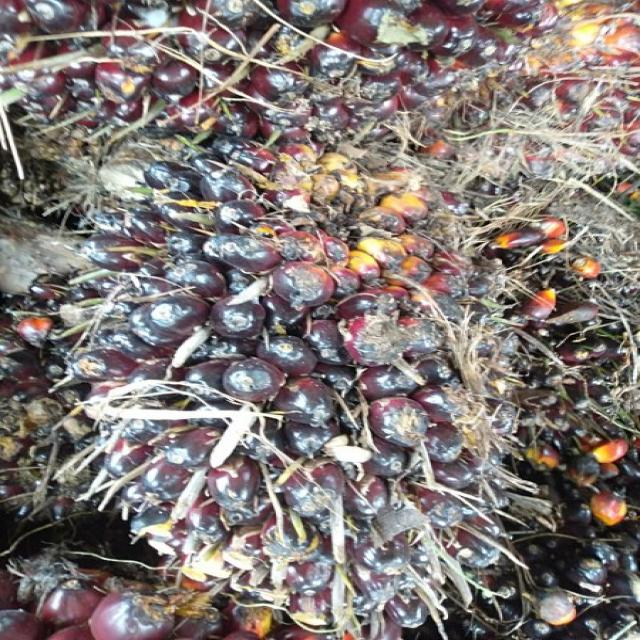fraksi 00: (91, 147, 521, 632)
